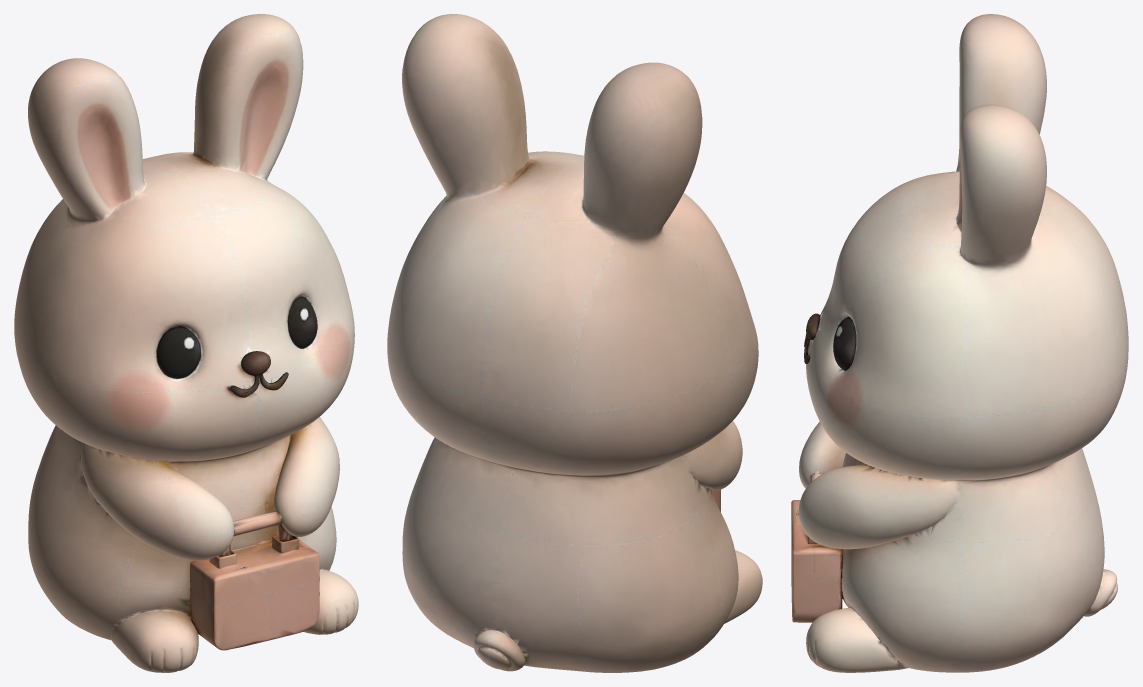
Rendered from model-mobile-v001.glb.
3 views of the same model, side by side, from view 1: azimuth 30°, elevation 25°; view 2: azimuth 150°, elevation 25°; view 3: azimuth 270°, elevation 25° (orthographic). The views are drawn at different scales.
Visible parts, largest first — view 1: tmp2tdxffcfobj; view 2: tmp2tdxffcfobj; view 3: tmp2tdxffcfobj.
Boxes of the visible parts, bbox=[...] form: tmp2tdxffcfobj: bbox=[14, 14, 358, 672]; tmp2tdxffcfobj: bbox=[387, 14, 762, 672]; tmp2tdxffcfobj: bbox=[791, 14, 1128, 672].
Bounding box in the file's own units: 0.565 × 0.9998 × 0.5457.
Materials: 1 (1 with a texture image).
